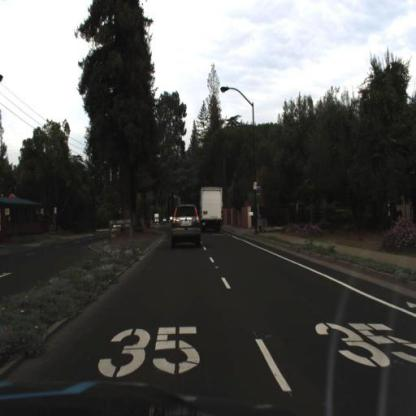car: (166, 199, 206, 258), (197, 183, 230, 237)
truck: (200, 184, 226, 233), (154, 212, 159, 226)
